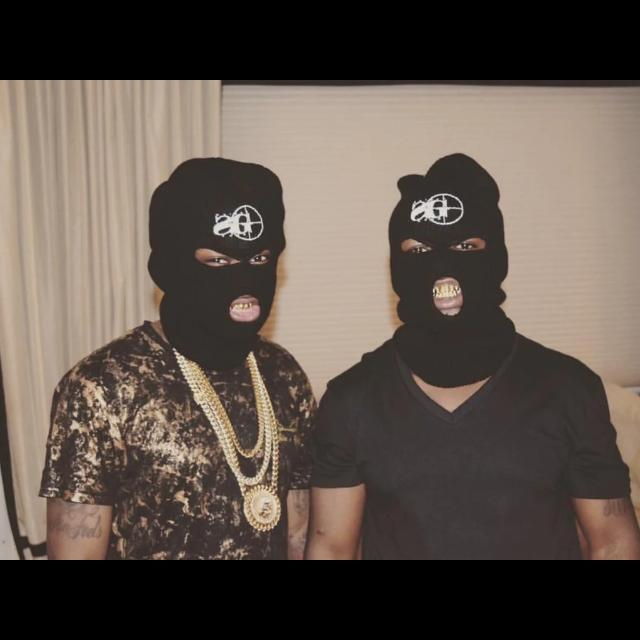criminal: (305, 153, 640, 561), (37, 155, 319, 560)
